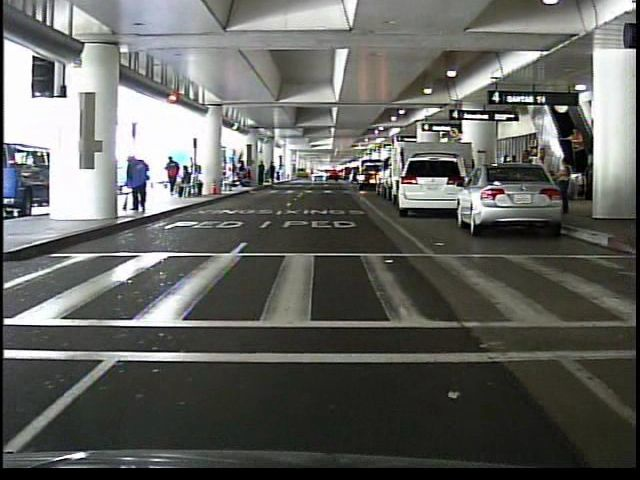person: (125, 152, 154, 215), (563, 123, 587, 171)
